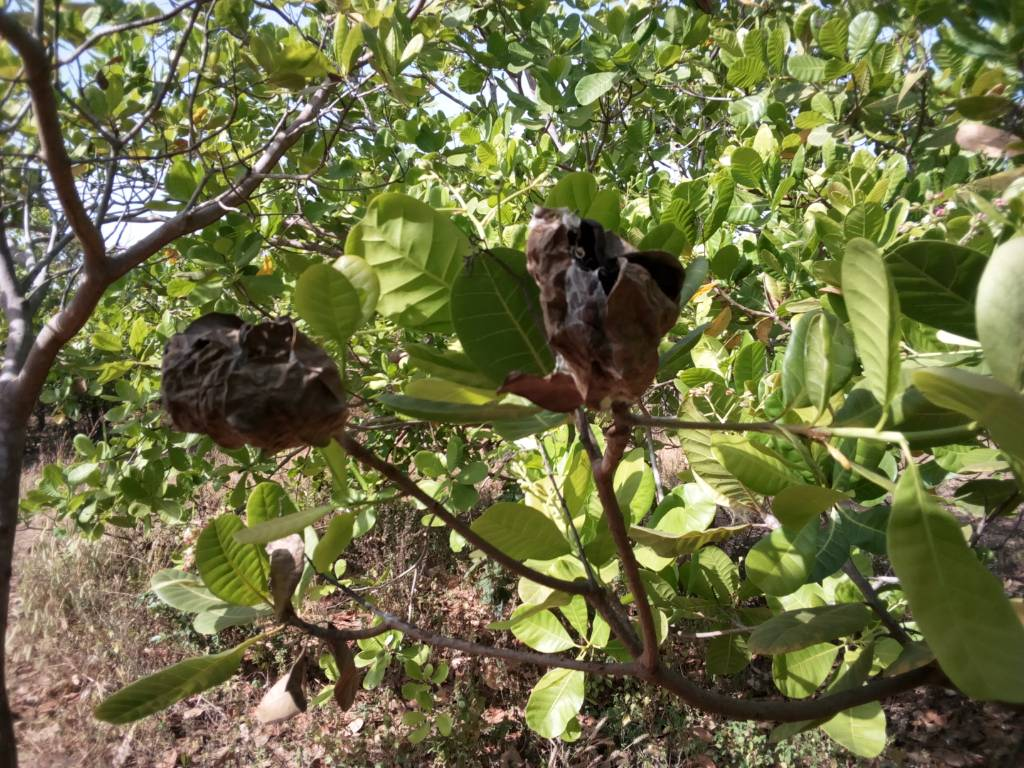Dessèchement des bourgeons: (529, 208, 683, 418), (159, 315, 356, 454), (288, 620, 361, 716)
